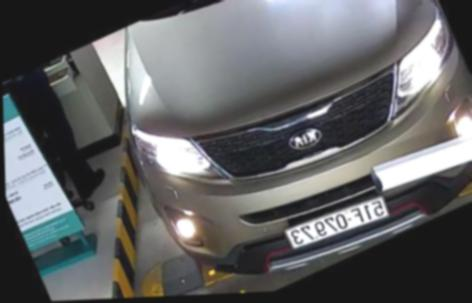License_Plate: (277, 192, 392, 257)
